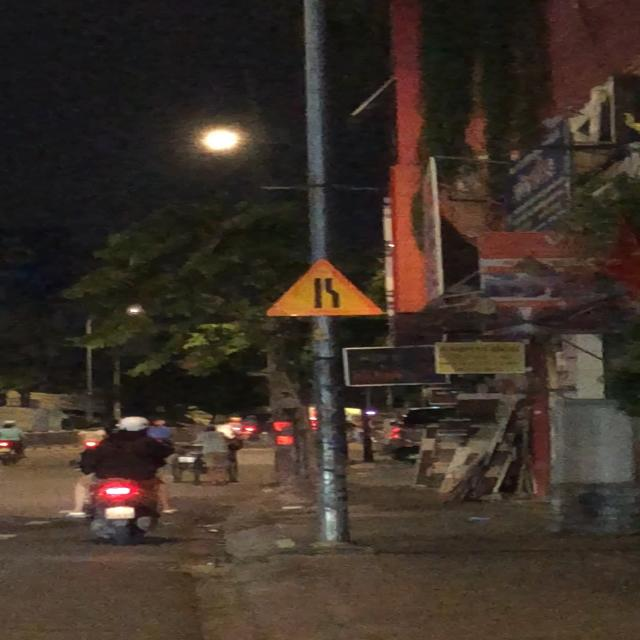Bien bao duong bi thu hep: (261, 256, 390, 318)
